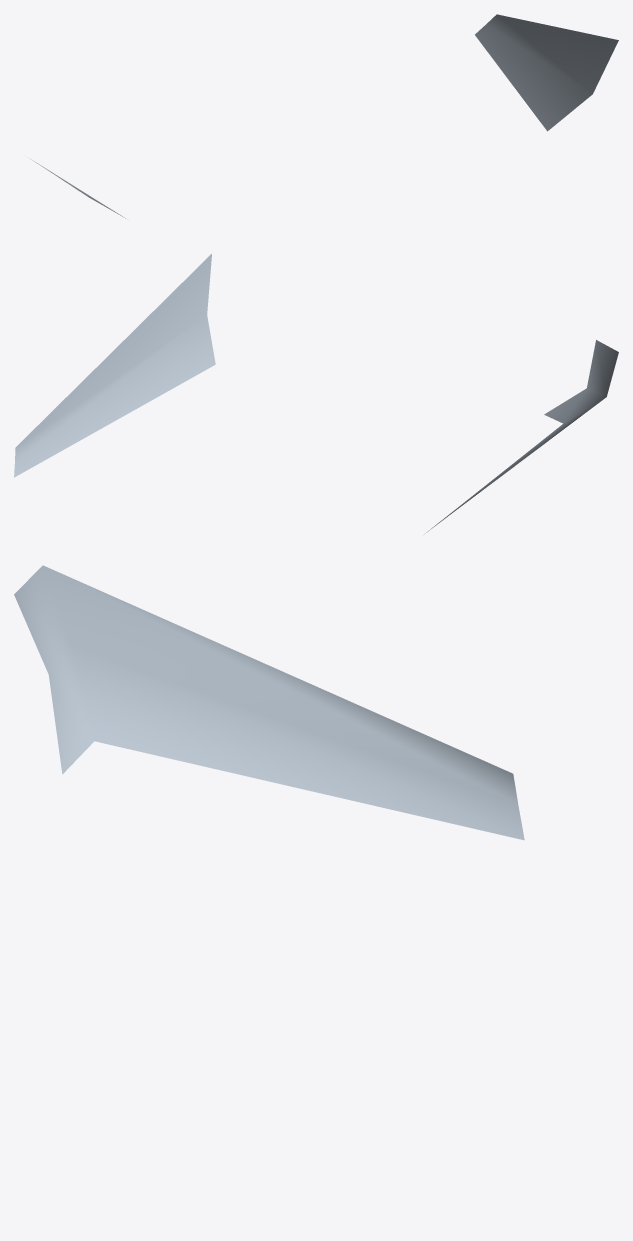
Rendered from meniscopatellar-ligament-r.glb.
The picture shows the model from 3 angles, top to bottom: view 1: azimuth 30°, elevation 25°; view 2: azimuth 150°, elevation 25°; view 3: azimuth 270°, elevation 25°; orthographic projection. The views are drawn at different scales.
Parts seen in each view (by area): view 1: Meniscopatellar ligament.r; view 2: Meniscopatellar ligament.r; view 3: Meniscopatellar ligament.r.
Part boxes in pixels (x1=…): Meniscopatellar ligament.r: x1=31, y1=14, x2=618, y2=218; Meniscopatellar ligament.r: x1=14, y1=254, x2=618, y2=532; Meniscopatellar ligament.r: x1=14, y1=565, x2=524, y2=840.
Size of the model in its own units: 0.0485 by 0.0126 by 0.0289.
